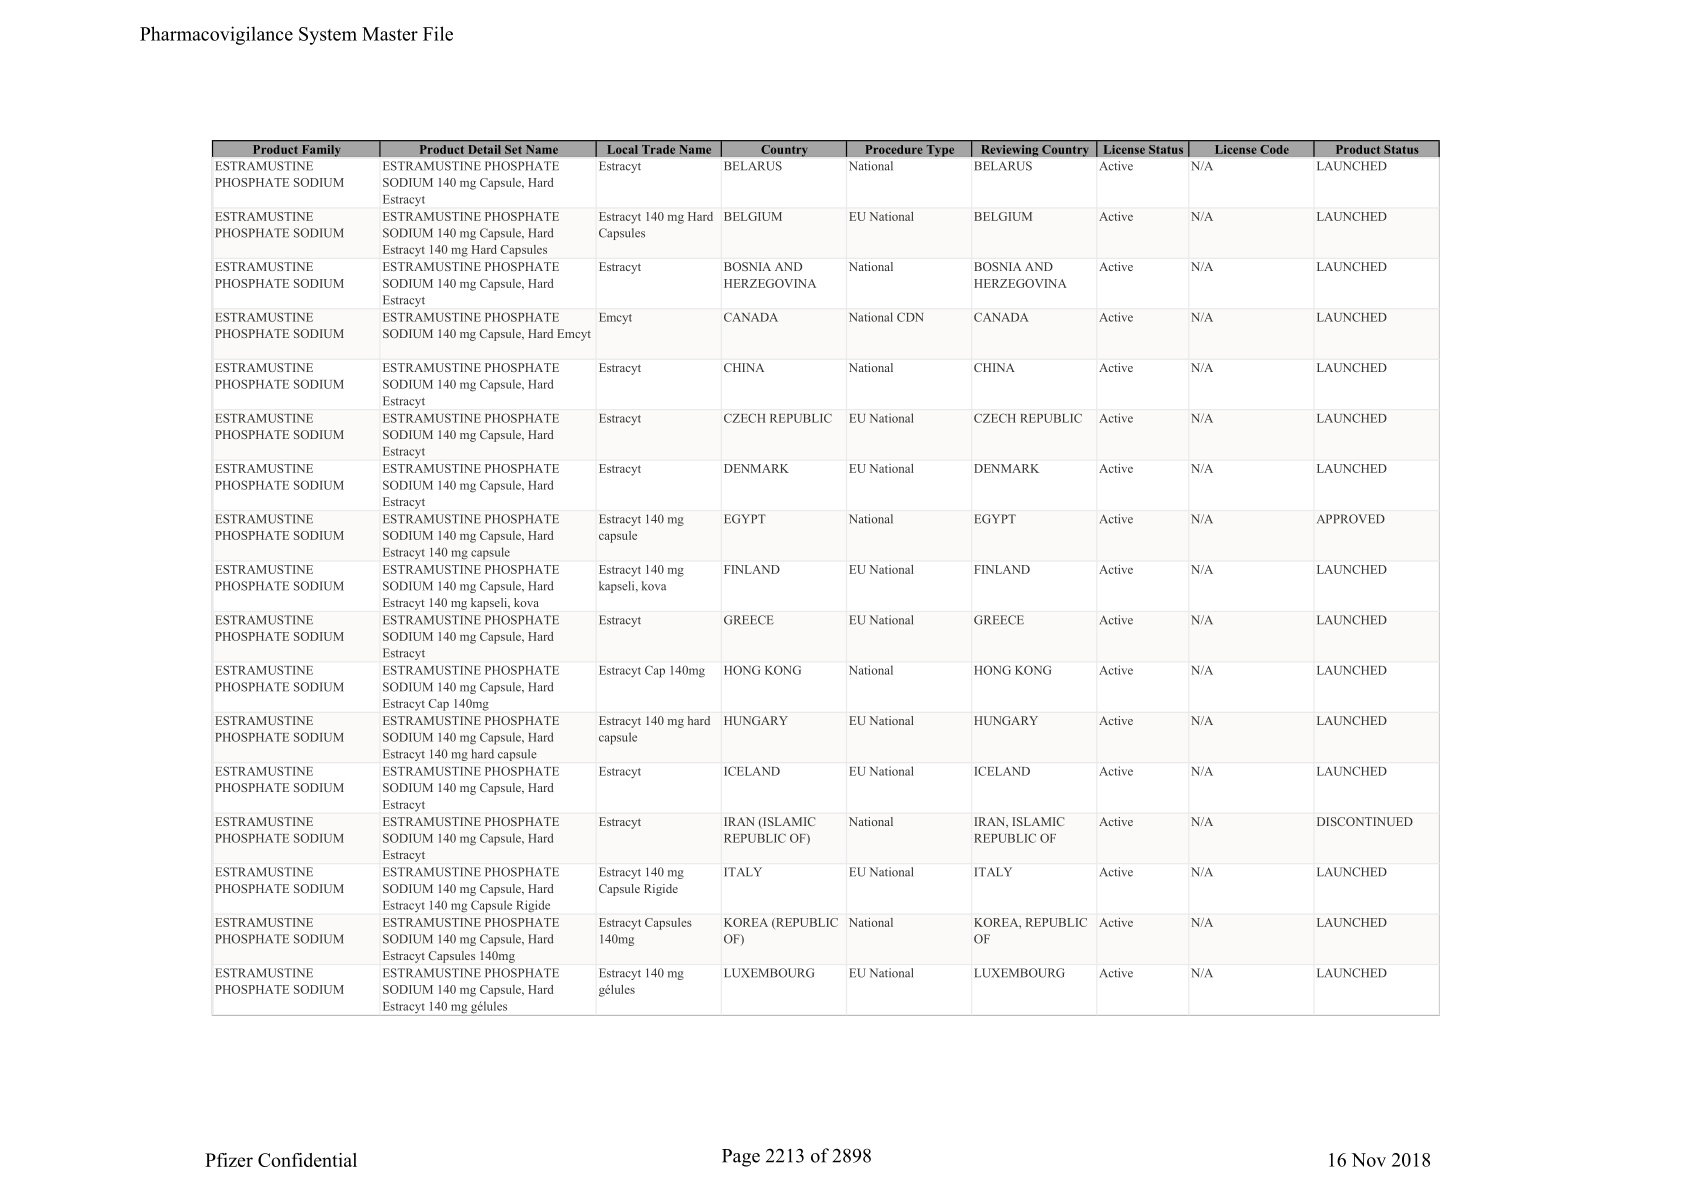full_lined: (211, 138, 1441, 1017)
